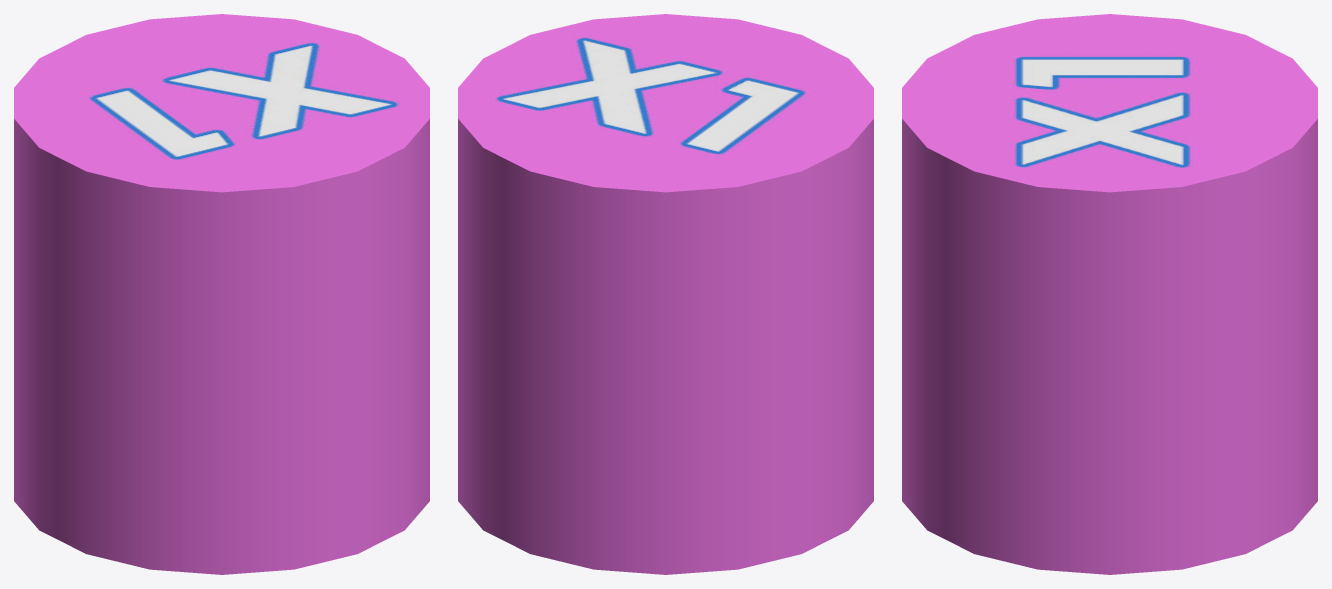
3 renders of one model, left to right at view 1: azimuth 30°, elevation 25°; view 2: azimuth 150°, elevation 25°; view 3: azimuth 270°, elevation 25°, orthographic.
Parts seen in each view (by area): view 1: Cylinder_1; view 2: Cylinder_1; view 3: Cylinder_1.
Boxes of the visible parts, x1,y1,x2,y2 form: Cylinder_1: (14,14,429,574); Cylinder_1: (458,14,873,574); Cylinder_1: (902,14,1317,574).
Size of the model in its own units: 2 by 2 by 1.97.
